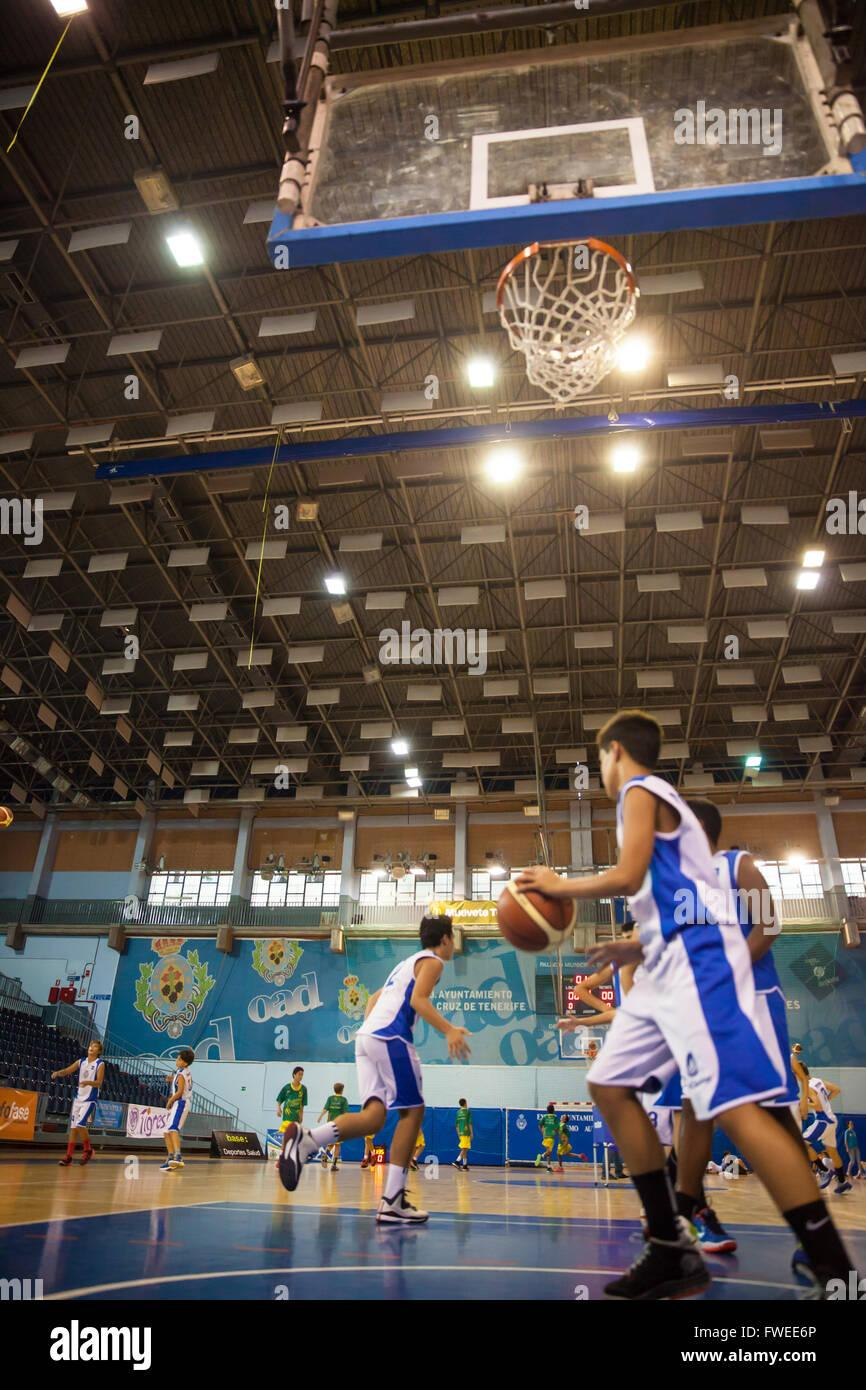basketball: (494, 870, 578, 946)
